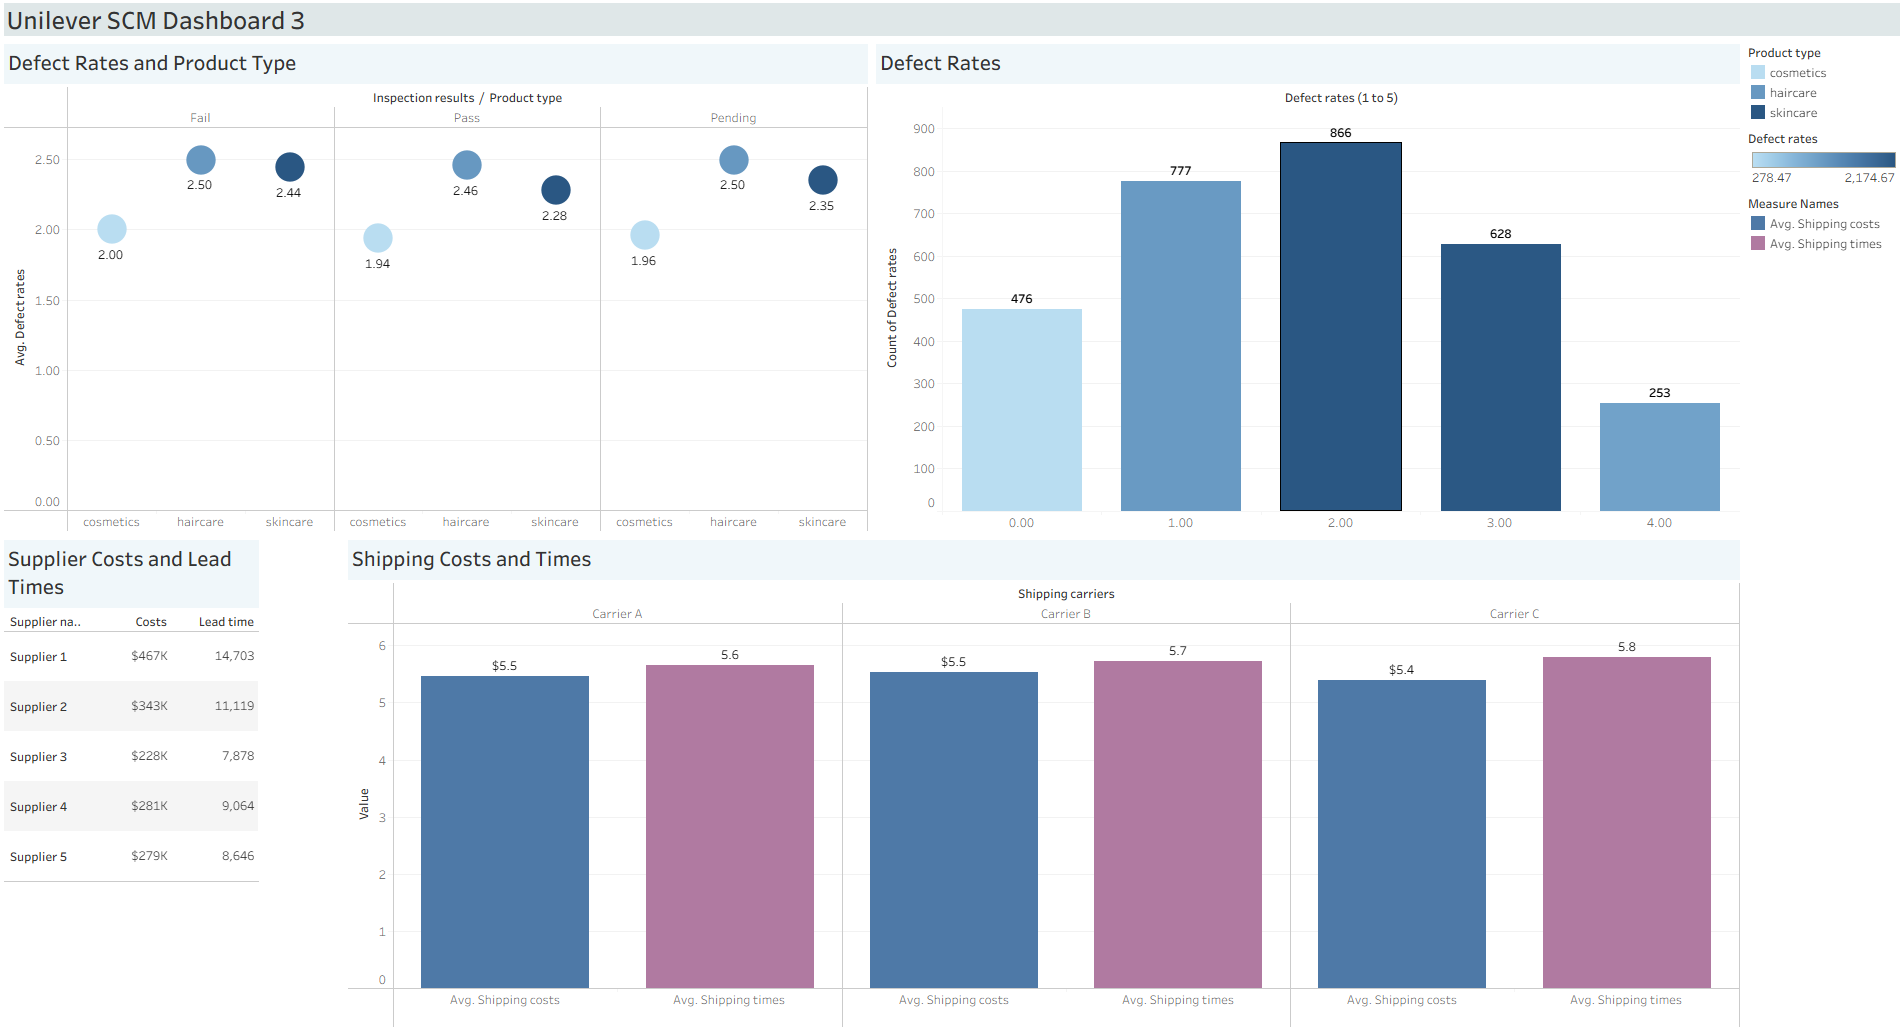

What the dashboard file says about the page in this screenshot:
{"tool":"tableau","page":{"name":"Unilever SCM Dashboard 3","canvas":[1000,1000],"units":"permille","ordinal":2},"visuals":[{"type":"title","box":[4.2,8.9,991.6,45.8]},{"type":"worksheet","title":"defect and product","mark":"Shape","rows":["Defect rates"],"cols":["Inspection results","Product type"],"box":[4.2,54.7,453.5,468.2]},{"type":"worksheet","title":"Defect Rates","mark":"Automatic","rows":["Defect rates"],"cols":["Defect rates (bin) 2"],"box":[457.7,54.7,453.6,468.2]},{"type":"legend","title":"defect and product","param":"[federated.0toibn90woc6wi15i6tn81vprhmb].[none:Product type:nk]","box":[911.3,54.7,84.5,96]},{"type":"legend","title":"Defect Rates","param":"[federated.0toibn90woc6wi15i6tn81vprhmb].[sum:Defect rates:qk]","box":[911.3,150.7,84.5,72.5]},{"type":"legend","title":"Shipping","param":"[federated.0toibn90woc6wi15i6tn81vprhmb].[:Measure Names]","box":[911.3,223.2,84.5,73.7]},{"type":"worksheet","title":"Supplier","mark":"Automatic","rows":["Supplier name"],"box":[4.2,522.9,178.7,468.2]},{"type":"worksheet","title":"Shipping","mark":"Automatic","cols":["Shipping carriers"],"box":[182.9,522.9,728.4,468.2]}]}

Visuals, with their boxes on the dashboard's canvas, which has no fixed pixel size, in thousandths of its width and height (x1, y1, x2, y2). These are canvas units, not pixel positions in the 1904x1027 screenshot, which may show the page scaled, cropped or inside an application window:
title: locate(4, 9, 996, 55)
"defect and product" worksheet (Shape marks): locate(4, 55, 458, 523)
"Defect Rates" worksheet: locate(458, 55, 911, 523)
"defect and product" legend: locate(911, 55, 996, 151)
"Defect Rates" legend: locate(911, 151, 996, 223)
"Shipping" legend: locate(911, 223, 996, 297)
"Supplier" worksheet: locate(4, 523, 183, 991)
"Shipping" worksheet: locate(183, 523, 911, 991)
